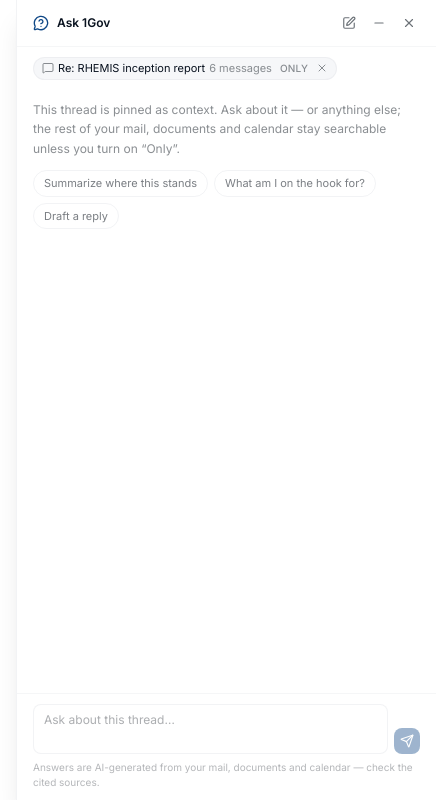
AskPanel scope chip › shows the included count once the server acks the pin
In the text box with placeholder "Ask about this thread…": (210, 729) [33,704,388,754], type "one"
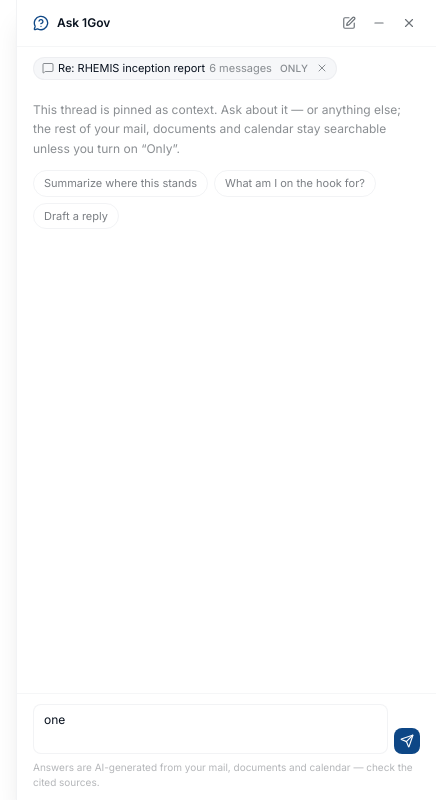
Click the button named "Send": click(407, 741) [394,728,420,754]
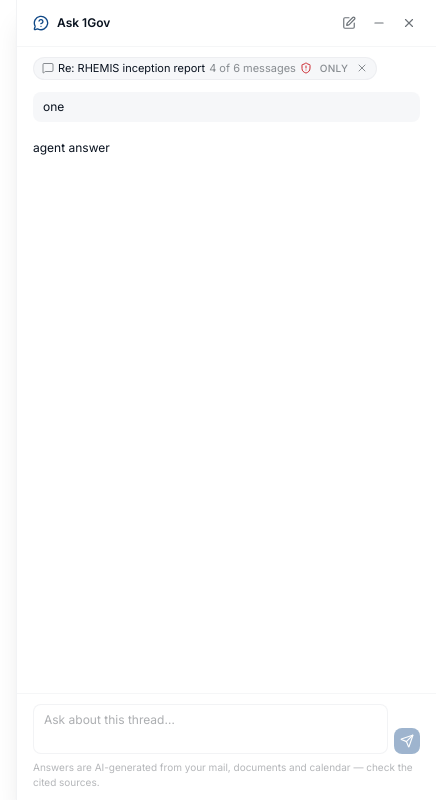
Check: the text "4 of 6 messages" is shown, box [209,60,296,76]
Check: the picture named "suspicious content" is shown, box [300,62,312,74]
